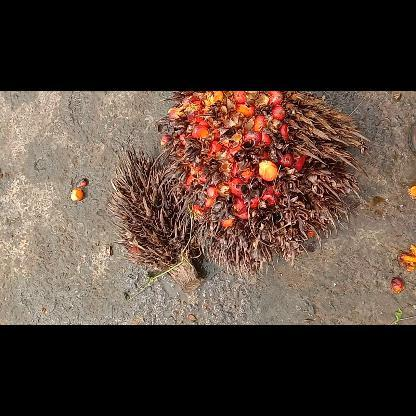Janjang kosong: (108, 144, 202, 292)
Terlalu masak: (153, 91, 369, 279)
